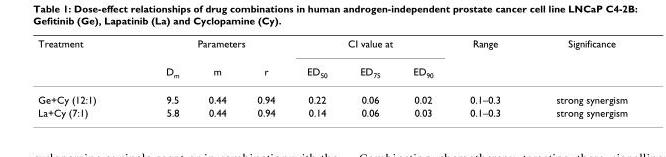table: (37, 37, 626, 118)
table column: (527, 37, 626, 118), (37, 37, 130, 118), (450, 37, 527, 118), (130, 37, 193, 118), (396, 37, 450, 118), (290, 37, 343, 118), (343, 37, 396, 118), (241, 37, 290, 118), (193, 37, 241, 118)
table column header: (37, 37, 626, 86)
table row: (37, 57, 626, 86), (37, 37, 626, 57), (37, 86, 626, 105), (37, 105, 626, 118)
table spanning cell: (527, 37, 626, 86), (37, 37, 130, 86), (450, 37, 527, 86), (130, 37, 290, 57), (290, 37, 450, 57)
